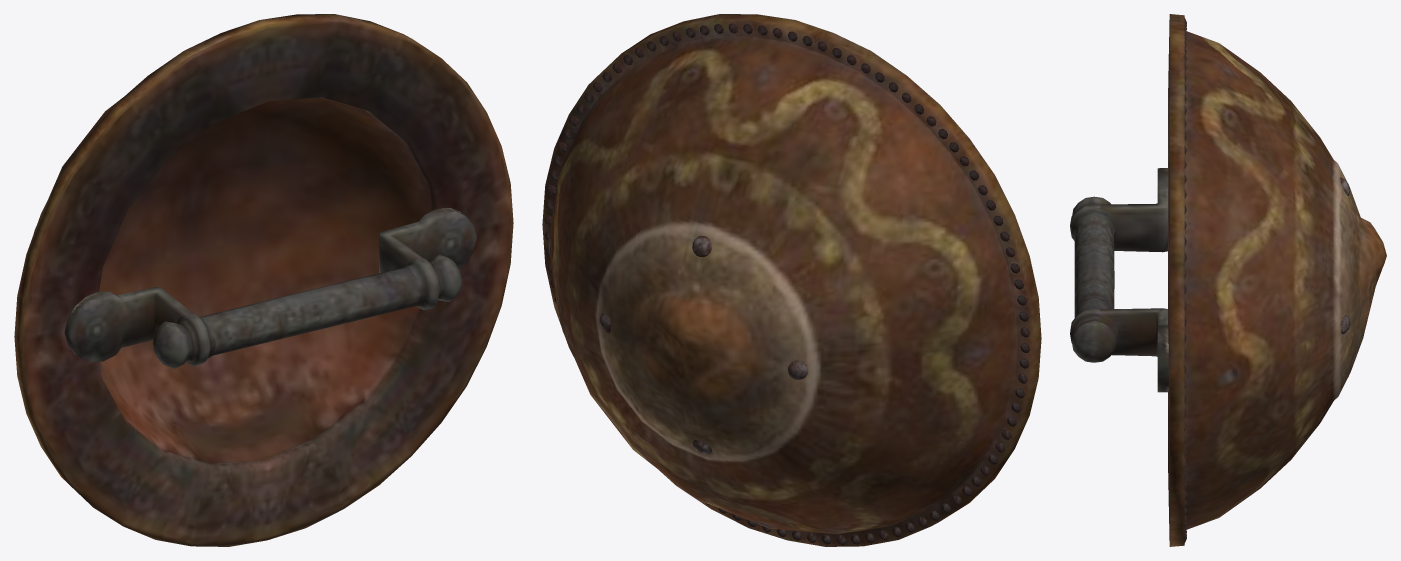
Rendered from weapon-wp_a_2104.glb.
3 renders of one model, left to right at view 1: azimuth 30°, elevation 25°; view 2: azimuth 150°, elevation 25°; view 3: azimuth 270°, elevation 25°, orthographic. The views are drawn at different scales.
Visible parts, largest first — view 1: wp_a_2104_mesh; view 2: wp_a_2104_mesh; view 3: wp_a_2104_mesh.
Part boxes in pixels (<box>): wp_a_2104_mesh: <box>14,14,513,546</box>; wp_a_2104_mesh: <box>542,14,1041,546</box>; wp_a_2104_mesh: <box>1070,14,1386,546</box>.
Size of the model in its own units: 0.365 by 0.3655 by 0.2172.
1 material, 1 textured.
